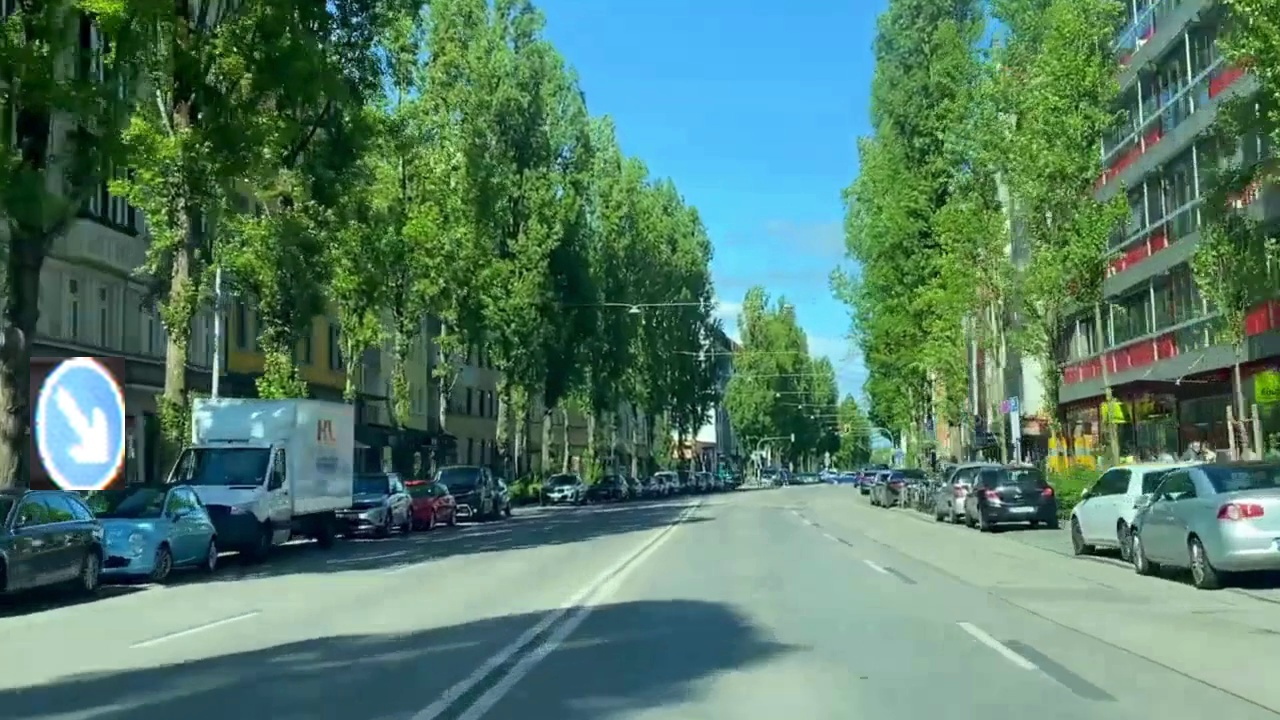Keep right: (30, 357, 125, 490)
